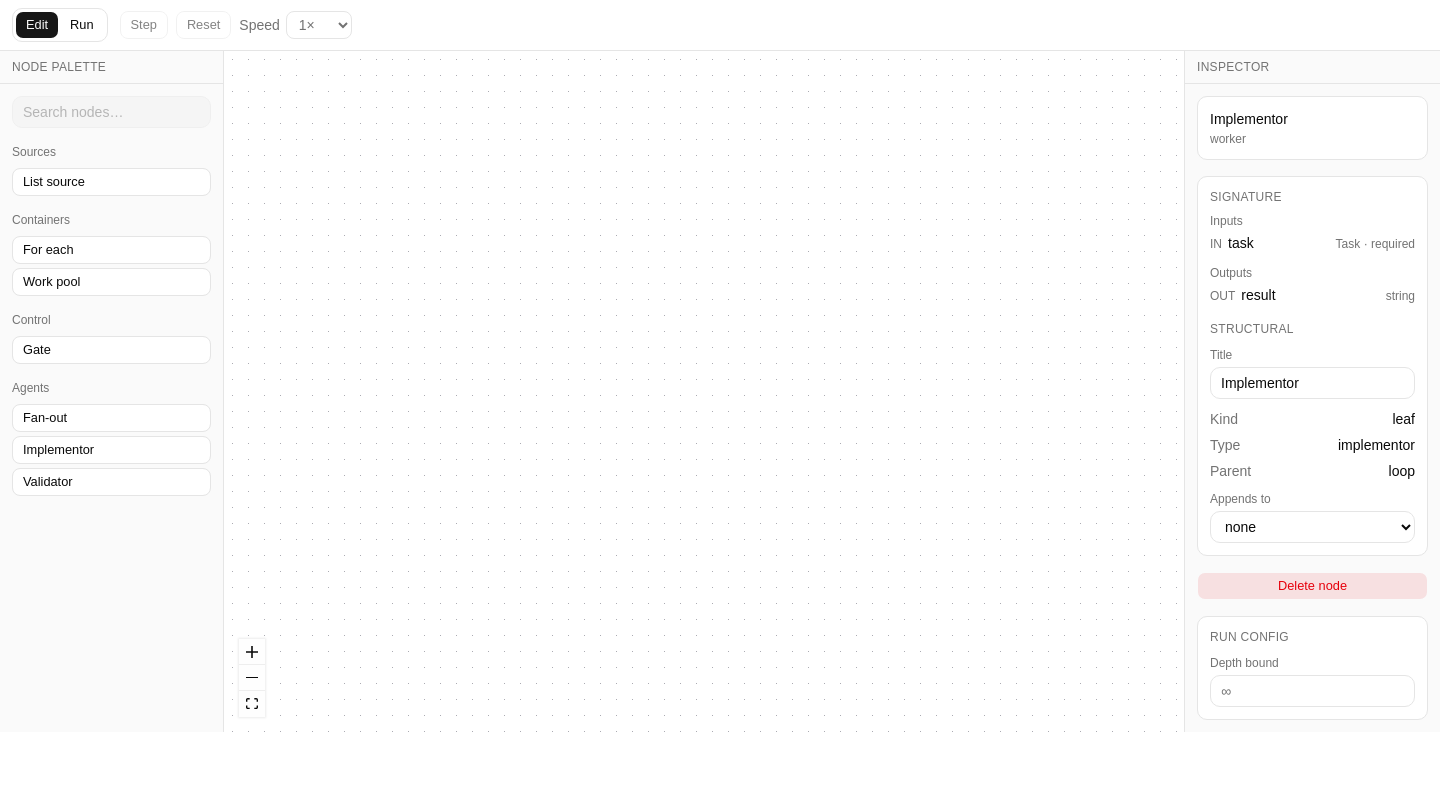
Scenario: select + delete inspector wiring › edits a node title from the inspector and reflects it live
This screenshot has width=1440, height=810.
Replace the text in the field with test id "inspector-field-title" with "Builder": coordinates (1312, 383) [1210,367,1415,399]
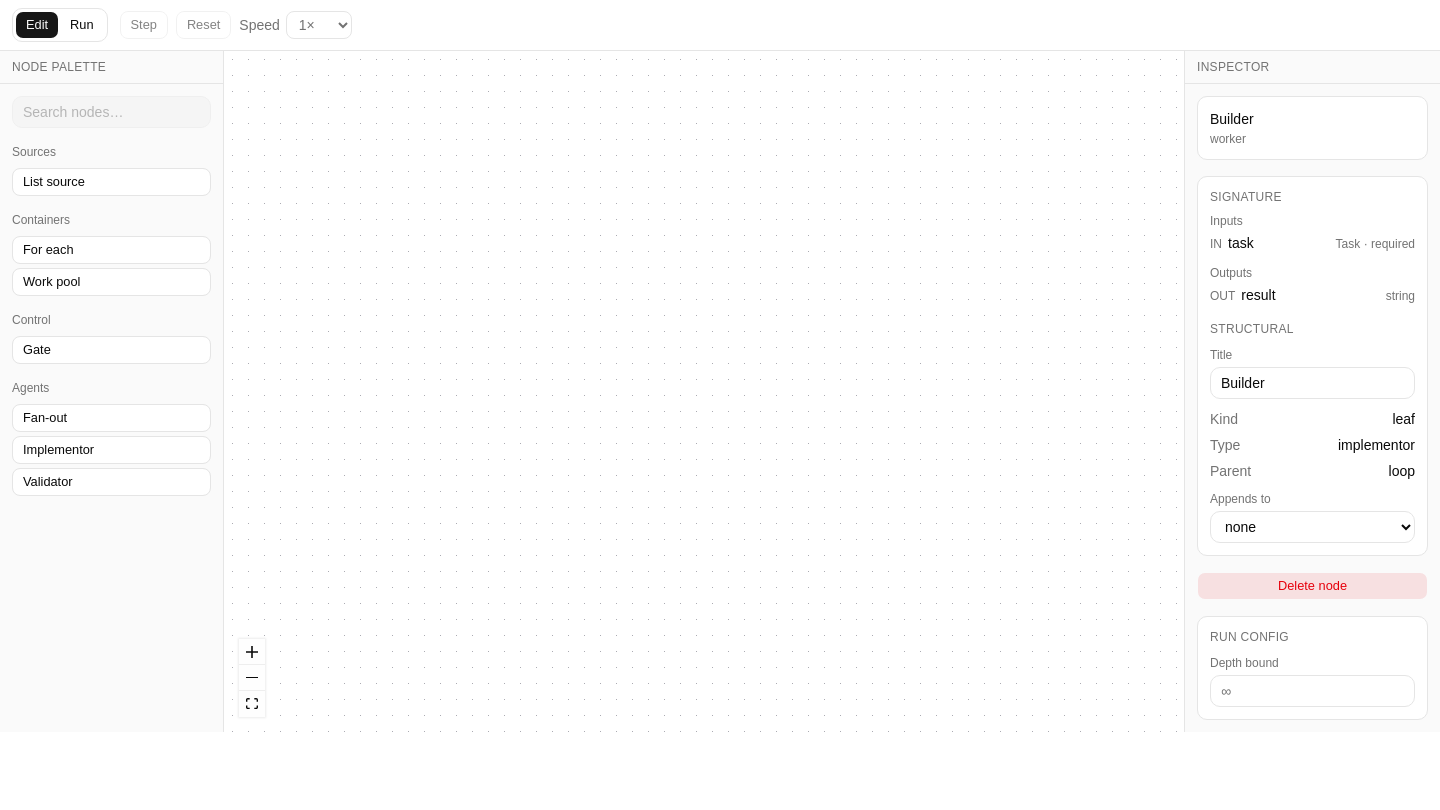
Result: the text with test id "inspector-title" reads "Builder" at [1210,111,1254,127]
